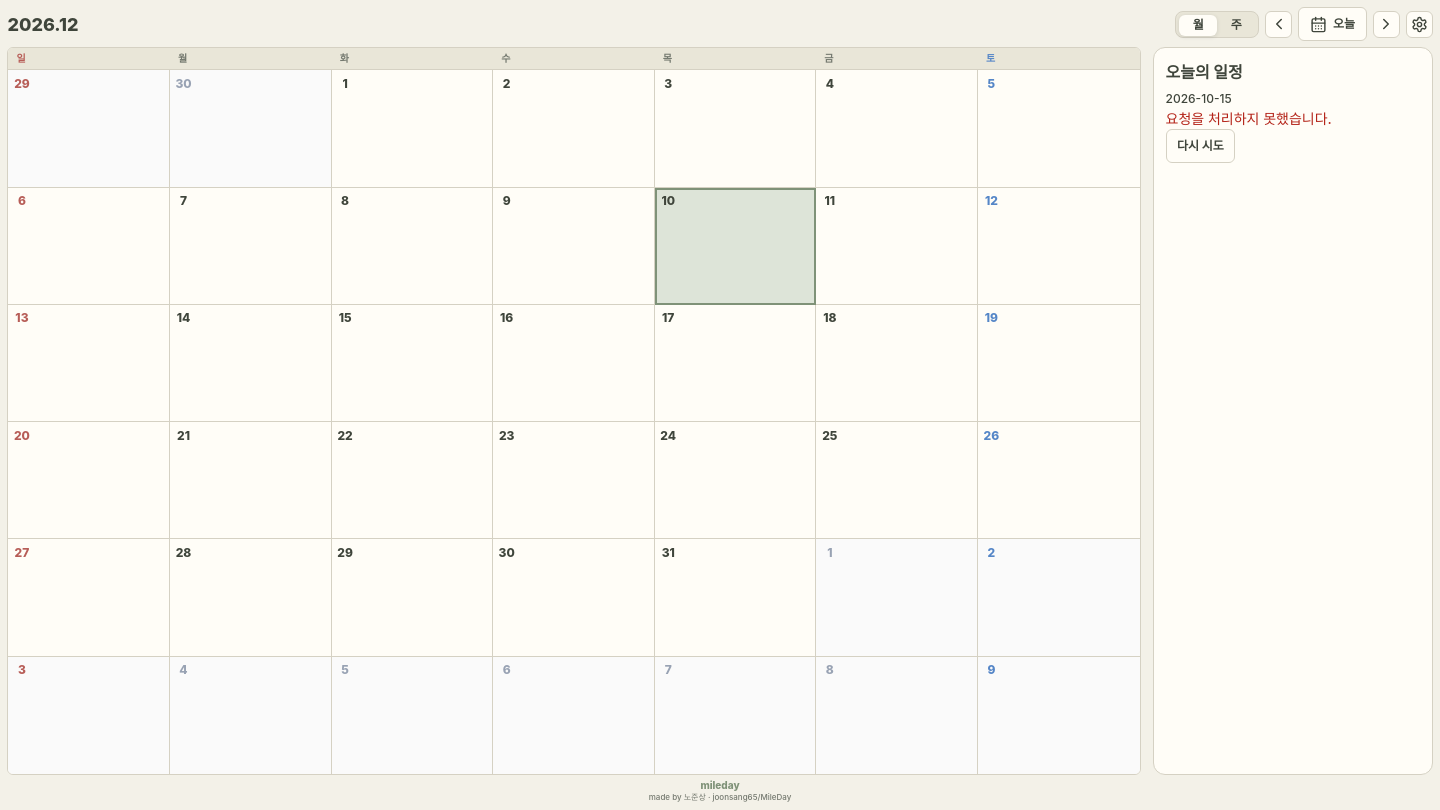
Test: today side panel integration › shows a retry action after a today query fails
Step 1. Click the button "다시 시도" → (1200, 146), box [1166,130,1235,164]
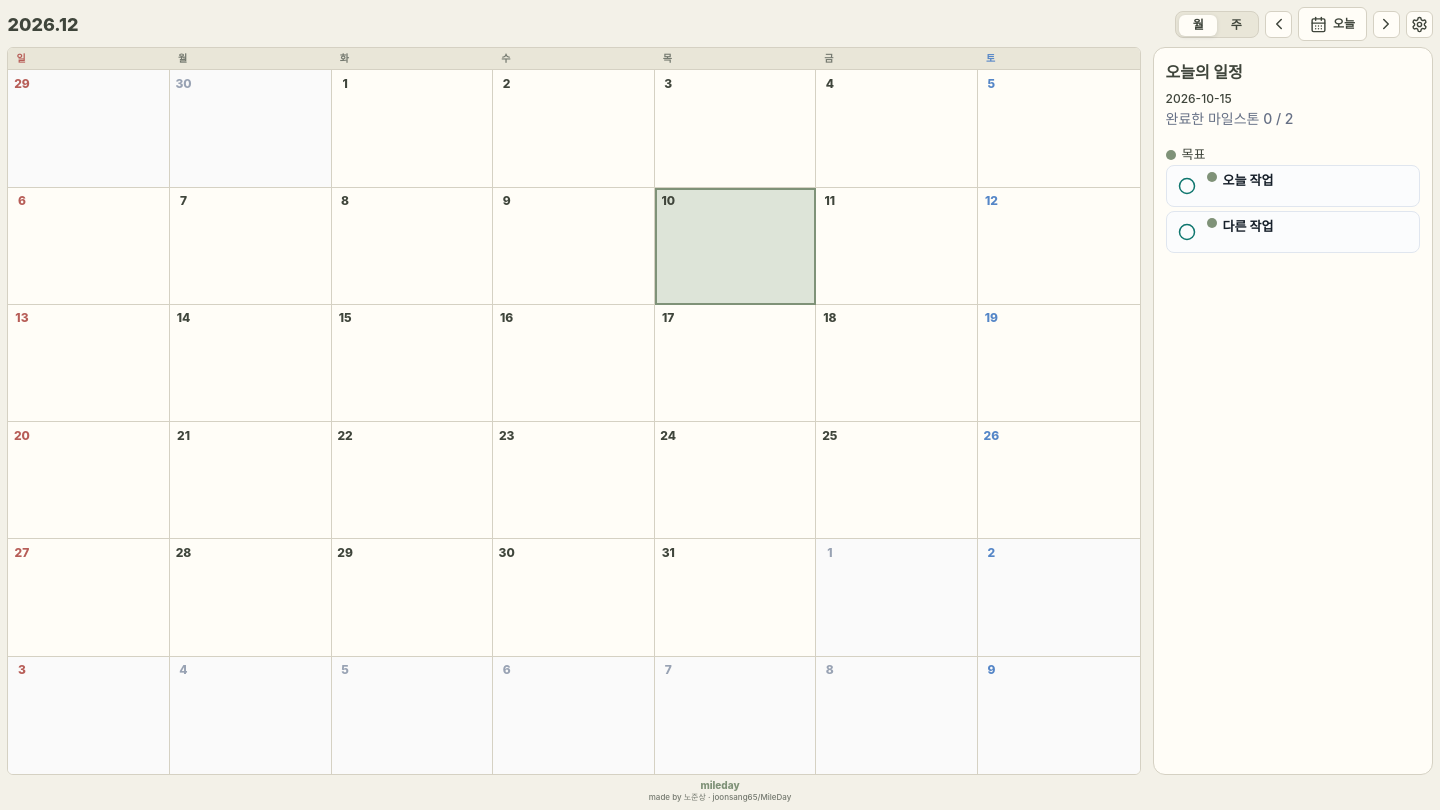
Result: the button named "오늘 작업" is shown at [1173,172,1201,200]
